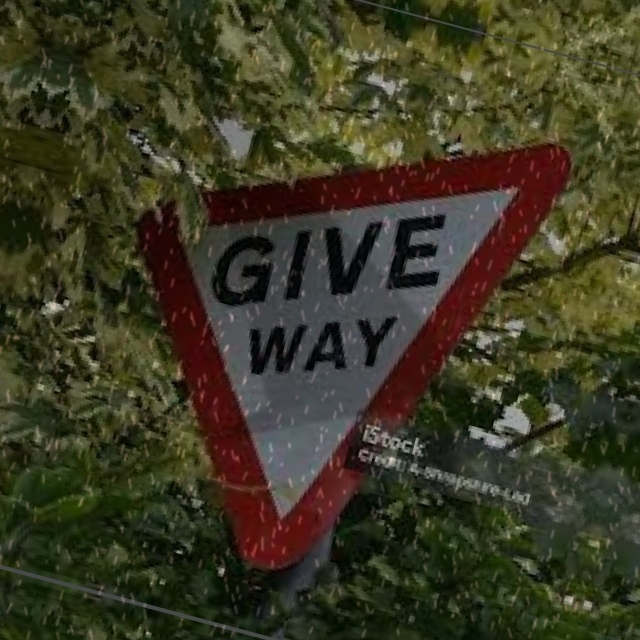Give_Way: (70, 59, 558, 596)
